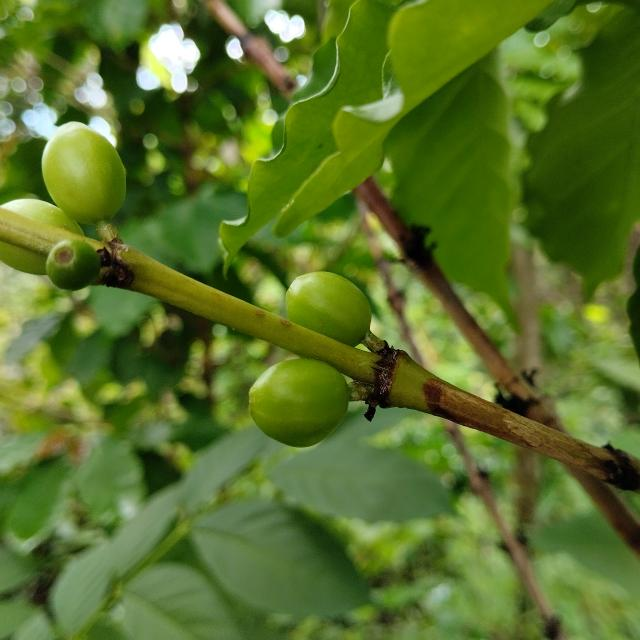green: (249, 358, 349, 448), (41, 121, 125, 224), (286, 271, 372, 347), (0, 198, 83, 235), (45, 240, 100, 291), (0, 241, 46, 275)
